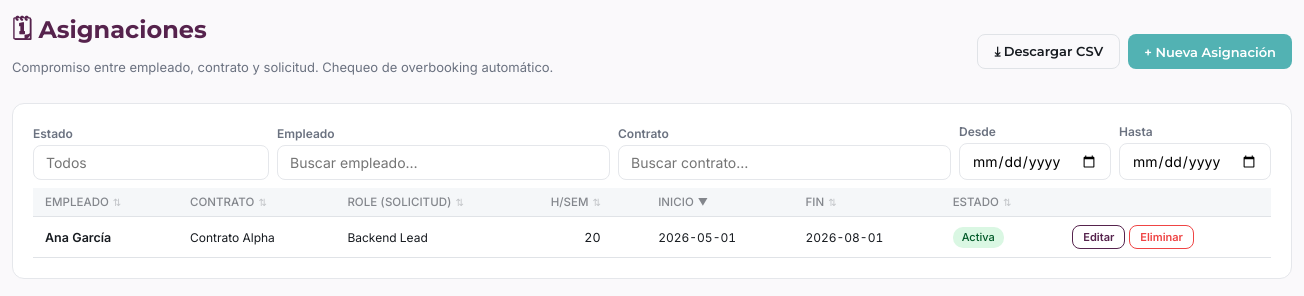
SPEC-008: filtro por contrato — ContractMultiSelect › opens dropdown on focus and shows contracts from lookup
This screenshot has width=1304, height=296.
Expected: the text "Ana García" is shown, [33,216,178,258]
Focus the field named "Filtro por contrato" at (784, 162), box [618,145,951,180]
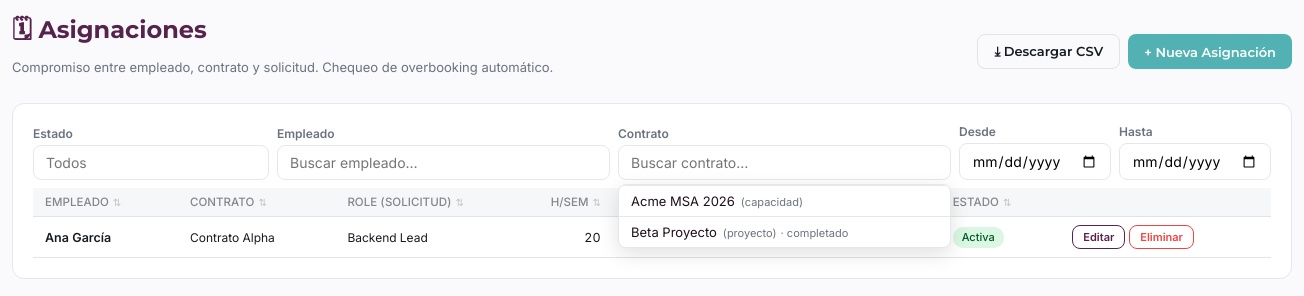
Expected: the option "Acme MSA 2026(capacidad)" is shown, [619,185,950,216]
Expected: the option "Beta Proyecto(proyecto)· completado" is shown, [619,216,950,247]
